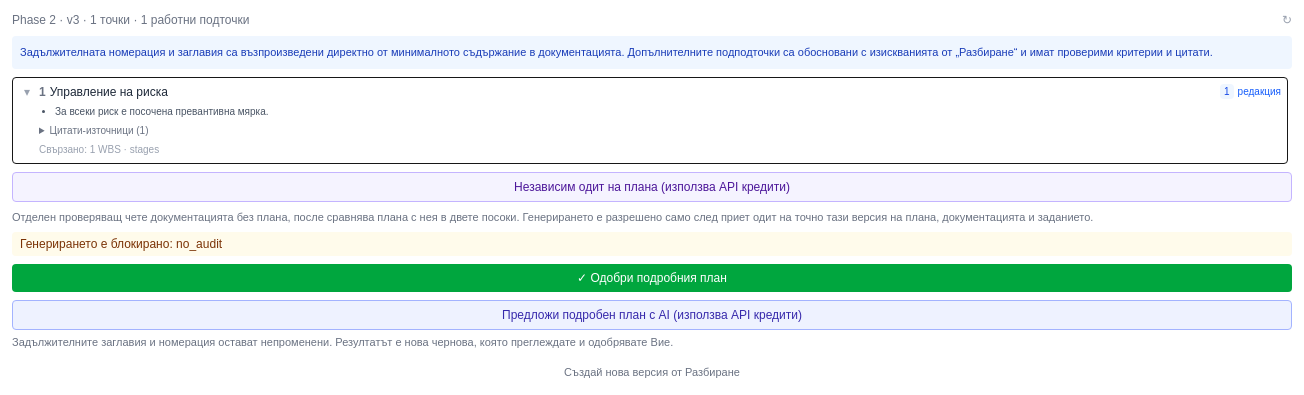
OutlinePanel Phase 2 › renders criteria and approves the detailed plan
Expected: the button "1Управление на риска" is shown, [39,84,1216,100]
Expected: the list item "За всеки риск е посочена превантивна мярка." is shown, [55,106,268,116]
Click the button with test id "content-plan-approve-button" at (652, 278), box [12,264,1292,292]
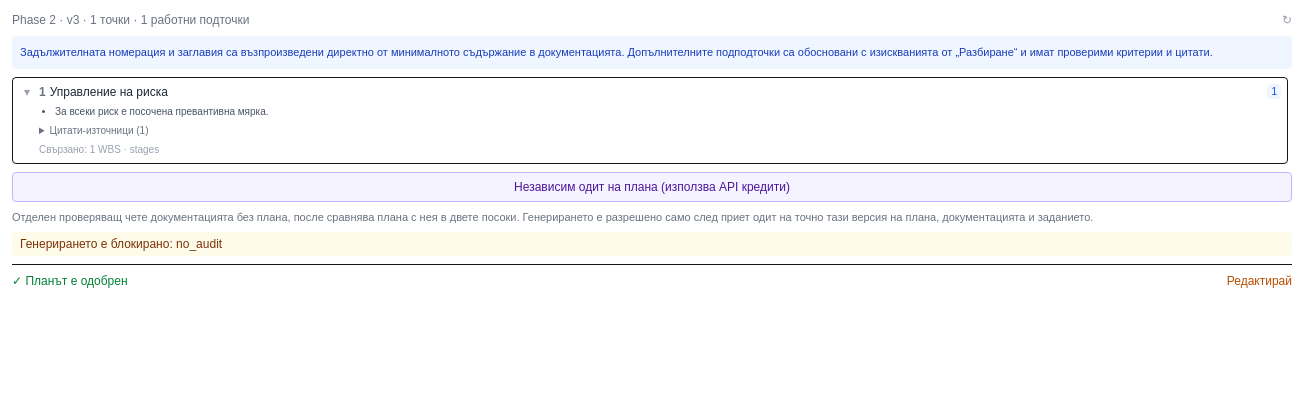
Result: the text "✓ Планът е одобрен" is shown at [12,273,128,289]
